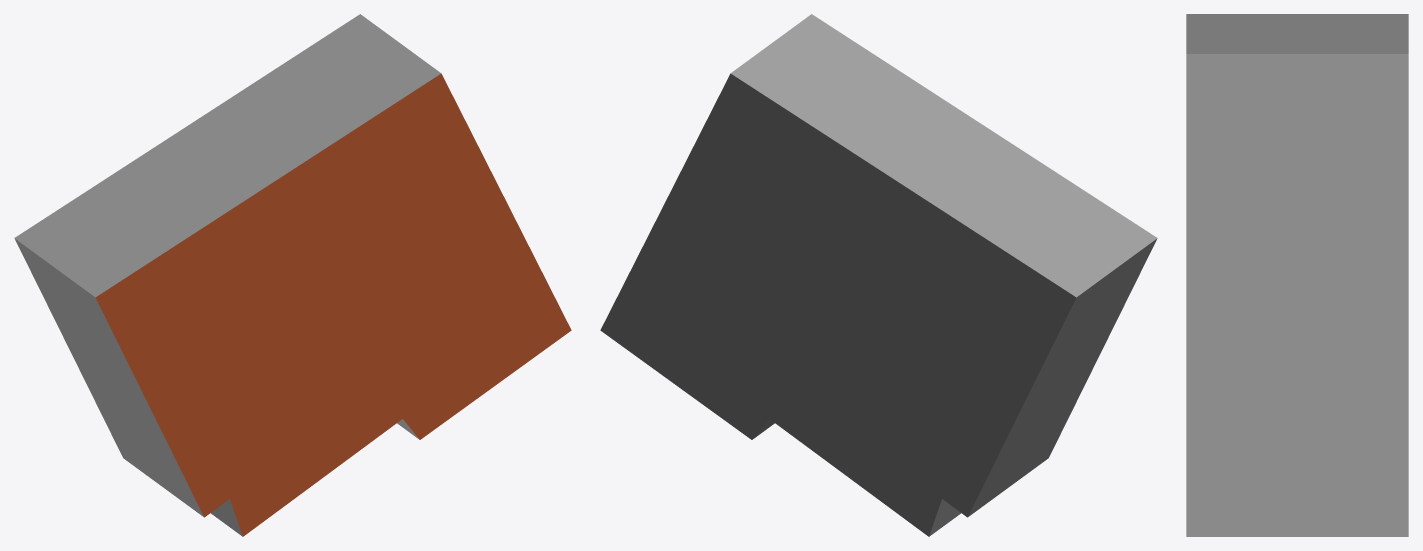
Rendered from construction_4195_assumed_A_Casa_h6m.obj.
3 views of the same model, side by side, from view 1: azimuth 30°, elevation 25°; view 2: azimuth 150°, elevation 25°; view 3: azimuth 270°, elevation 25° (orthographic). The views are drawn at different scales.
Visible parts, largest first — view 1: construction_4195_assumed_A_Casa; view 2: construction_4195_assumed_A_Casa; view 3: construction_4195_assumed_A_Casa.
Part boxes in pixels (box(x1,y1,x2,y2)): construction_4195_assumed_A_Casa: box(14, 14, 571, 536); construction_4195_assumed_A_Casa: box(600, 14, 1157, 536); construction_4195_assumed_A_Casa: box(1186, 14, 1408, 536).
Size of the model in its own units: 20.32 by 16.93 by 6.
